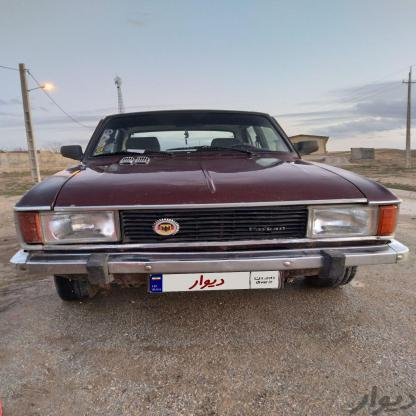Car: (11, 108, 396, 289)
